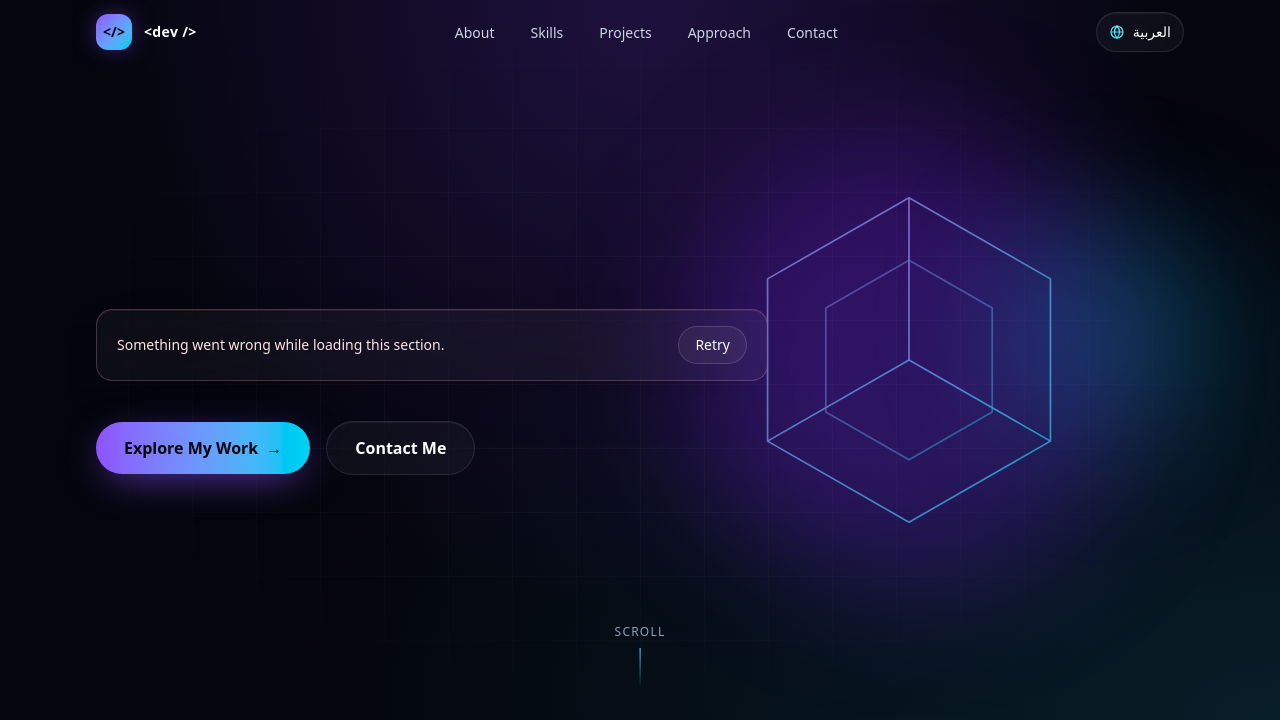
Home page connected to the API › shows errors with retry when the API fails — never falls back to sample data
This screenshot has width=1280, height=720.
Expected: the heading "Fixture headline from the API" is not shown
What coordinates should you click on to do the following:
click the button "Retry"
I would click on:
 (713, 345)
Its box is [678,326,747,364].
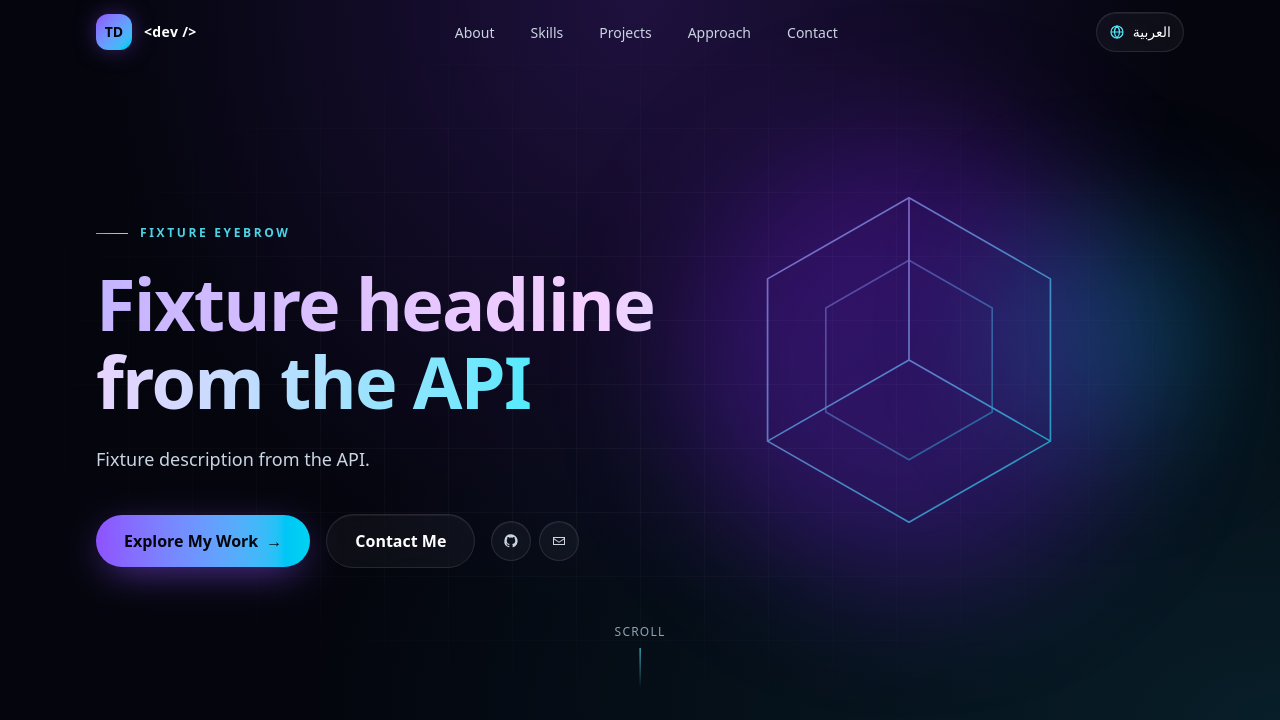
Expected: the heading "Fixture headline from the API" is shown, [96,254,654,430]
